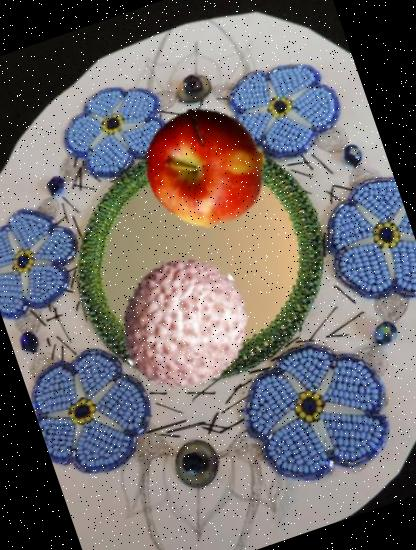Apple: (129, 90, 282, 244)
Lychee: (100, 238, 272, 410)
